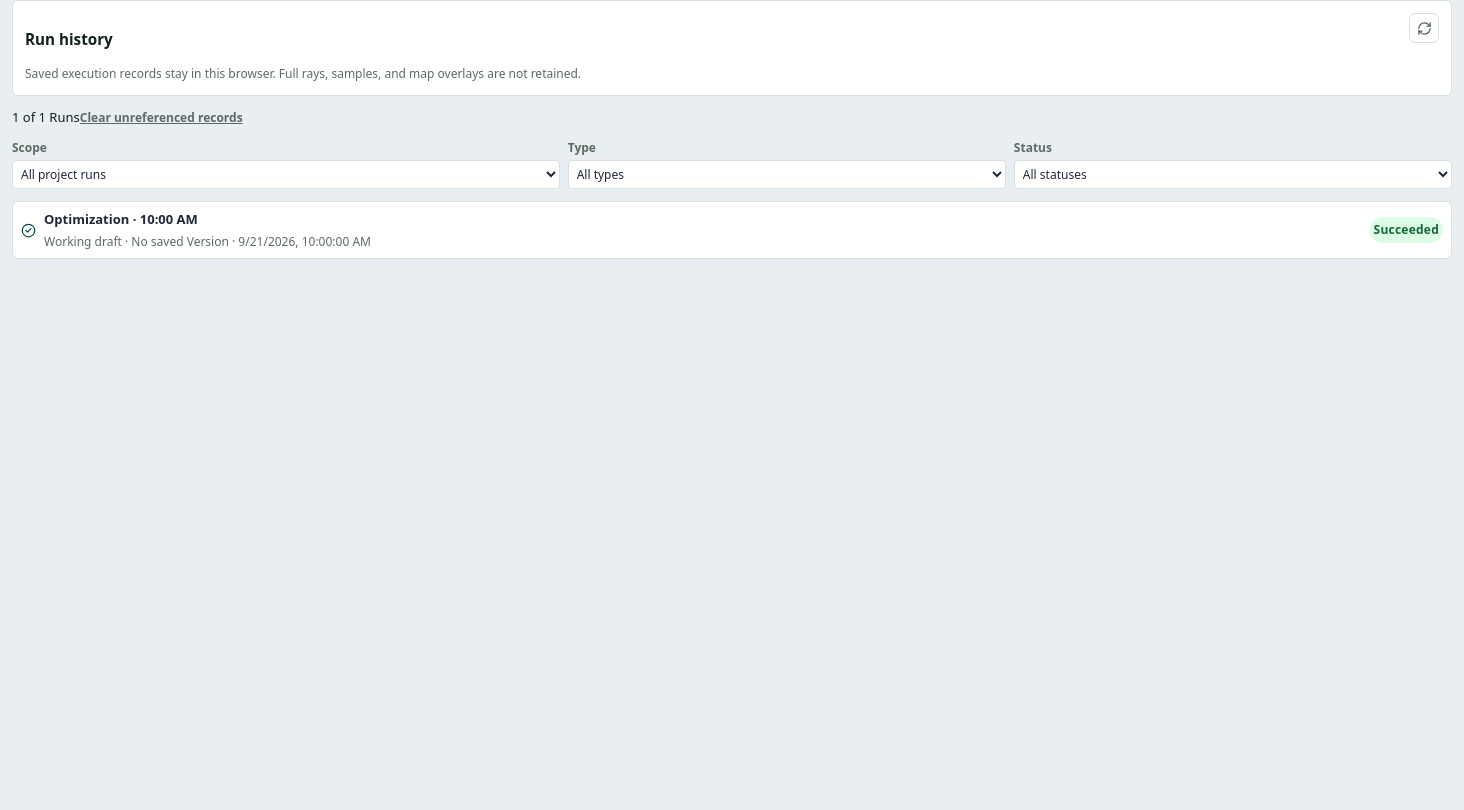
Test case: RunHistoryPanel › does not offer historical apply or Report actions without the exact source Version
The image size is (1464, 810).
Click the button with aria-label "Open Optimization · 10:00 AM, Succeeded, Working draft · No" at (121, 219), box [13, 202, 1451, 258]
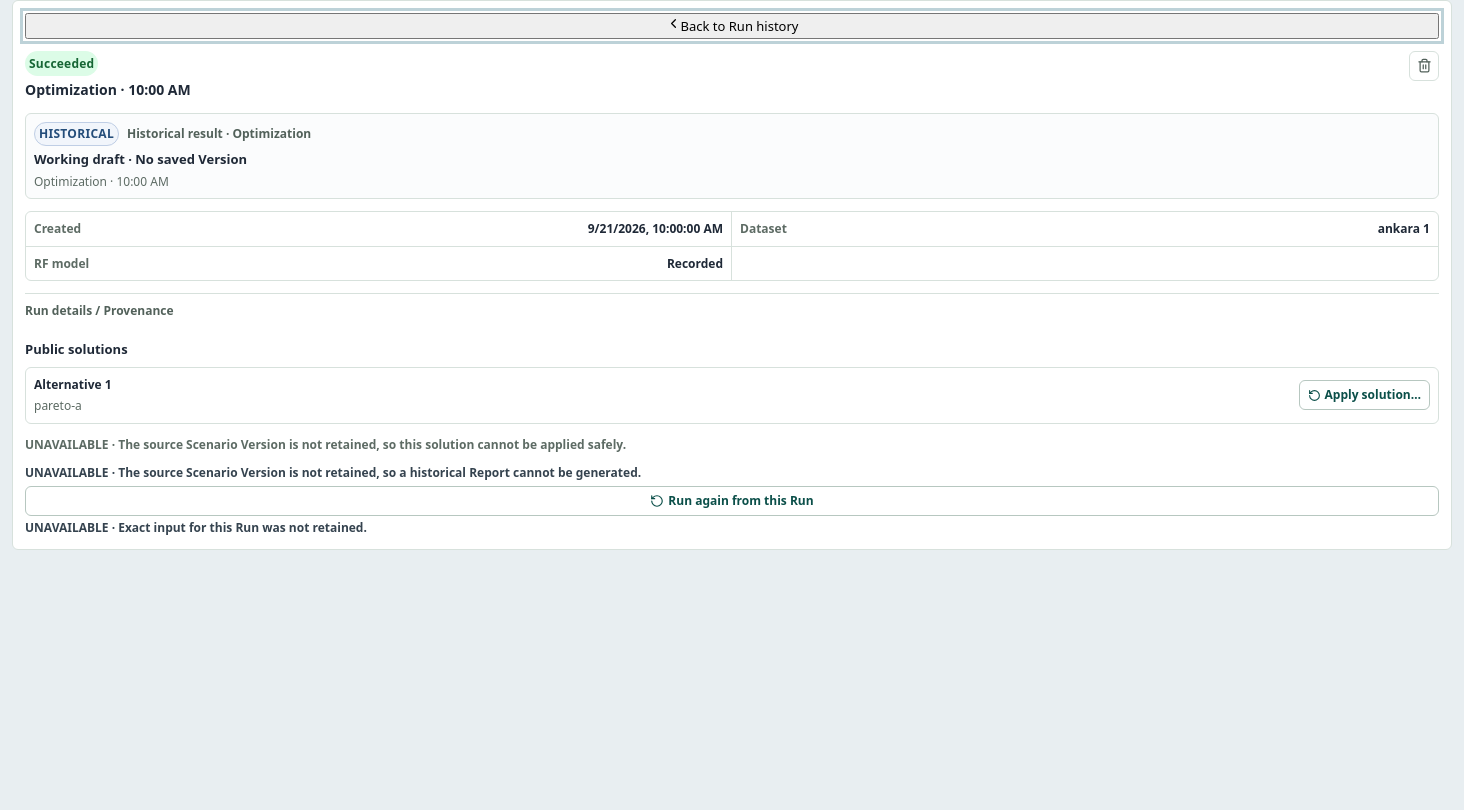
Expected: the text "UNAVAILABLE · The source Scenario Version is not retained" is shown 2 times, [25, 436, 626, 453]; [25, 464, 641, 481]
